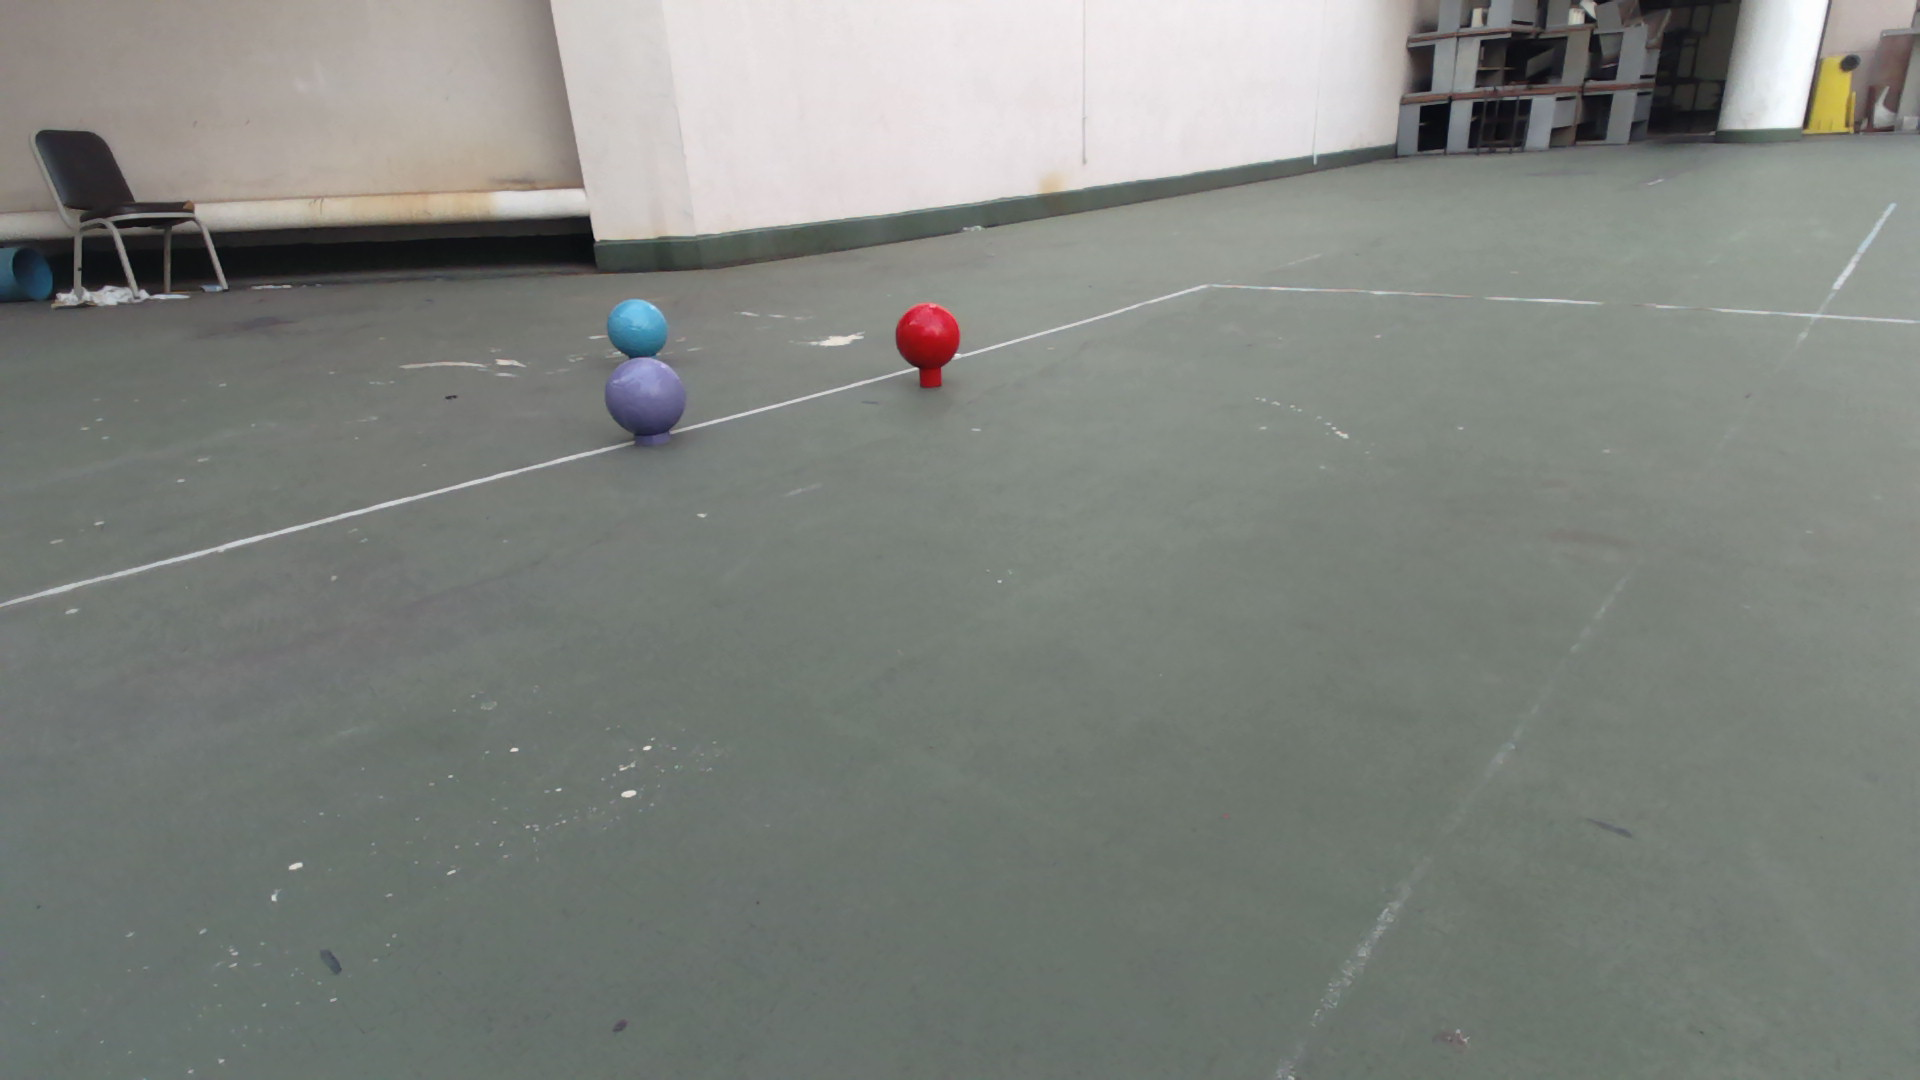Blue ball: (605, 297, 667, 353)
Purple ball: (603, 355, 688, 436)
Red ball: (893, 301, 961, 371)
